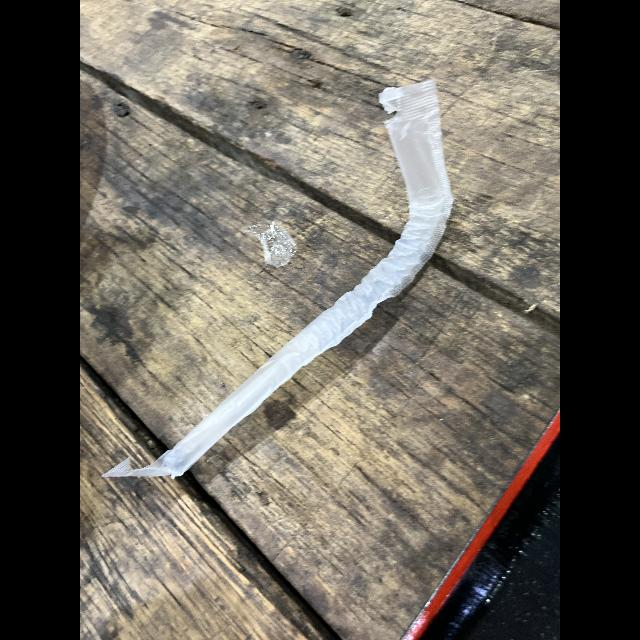scrap_plastic: (101, 80, 447, 492)
